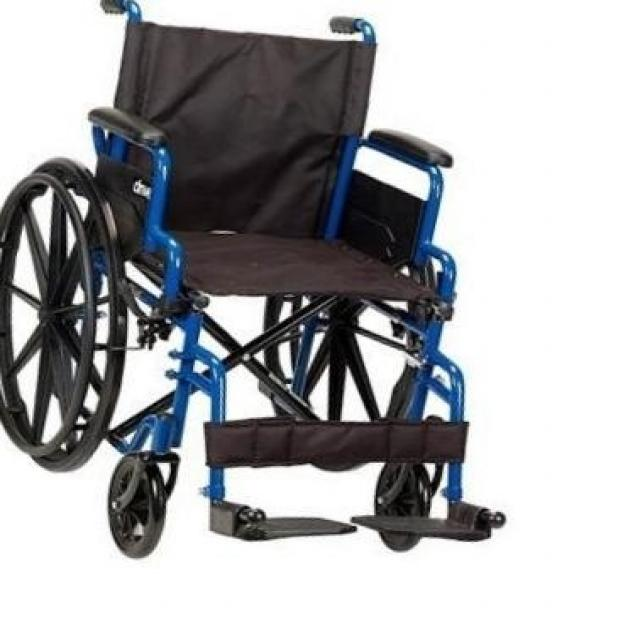wheelchair: (3, 0, 525, 566)
